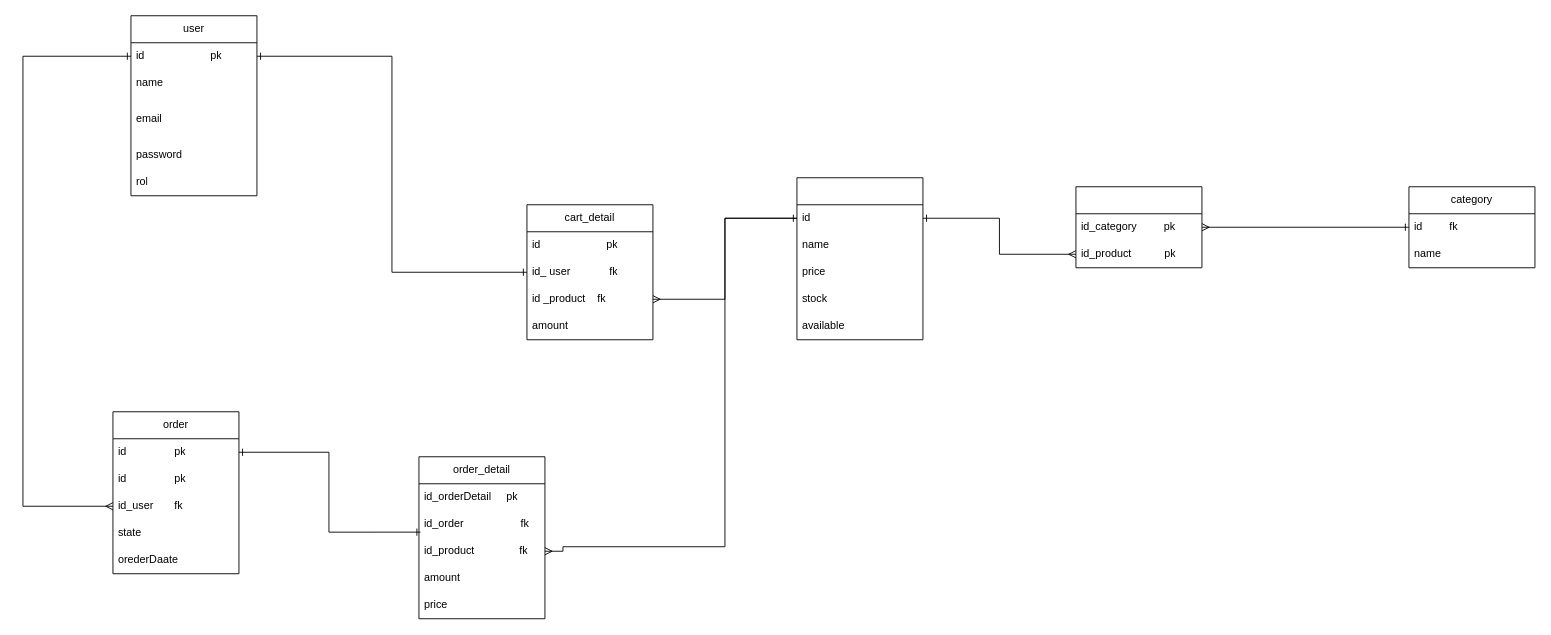
Some shapes in this 1551 by 635 pixel diagram are drawn without their labels. Here are the shapes that lost their labels. From the top down, the box of each, then its label:
(1075, 186, 1202, 268): pruduct_category
(796, 177, 923, 340): product
